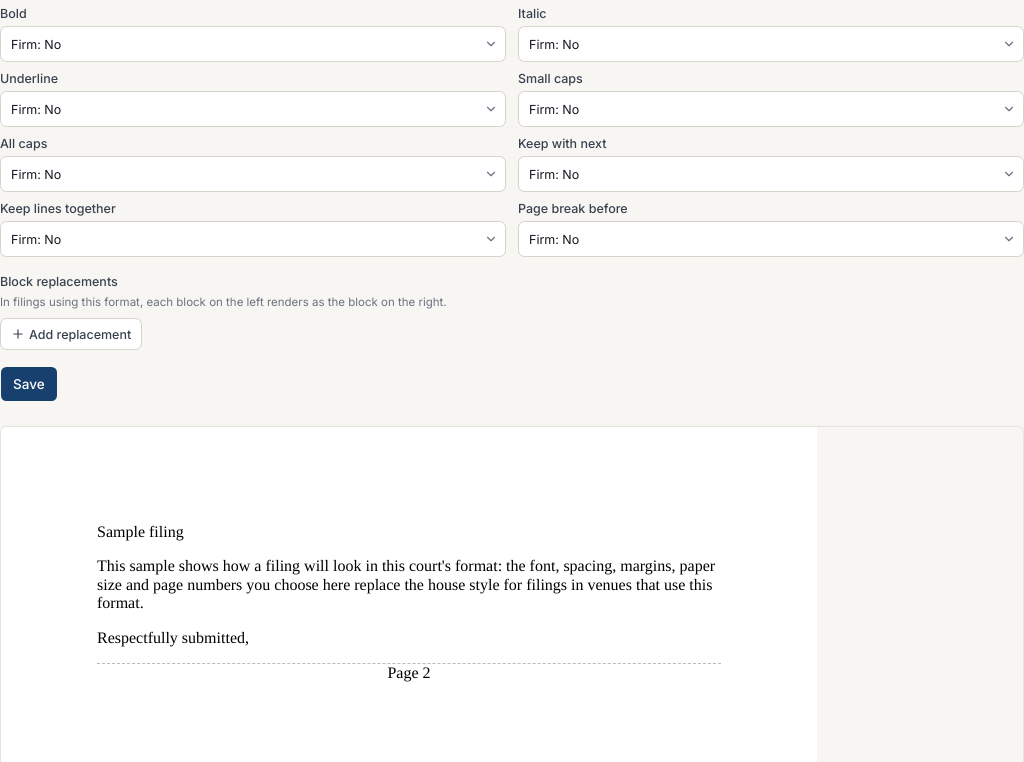
Test: CourtFormatEditor › stale error offers Reload
(page scrolled)
Click the button "Save".
click(29, 384)  # box [0,366,58,402]
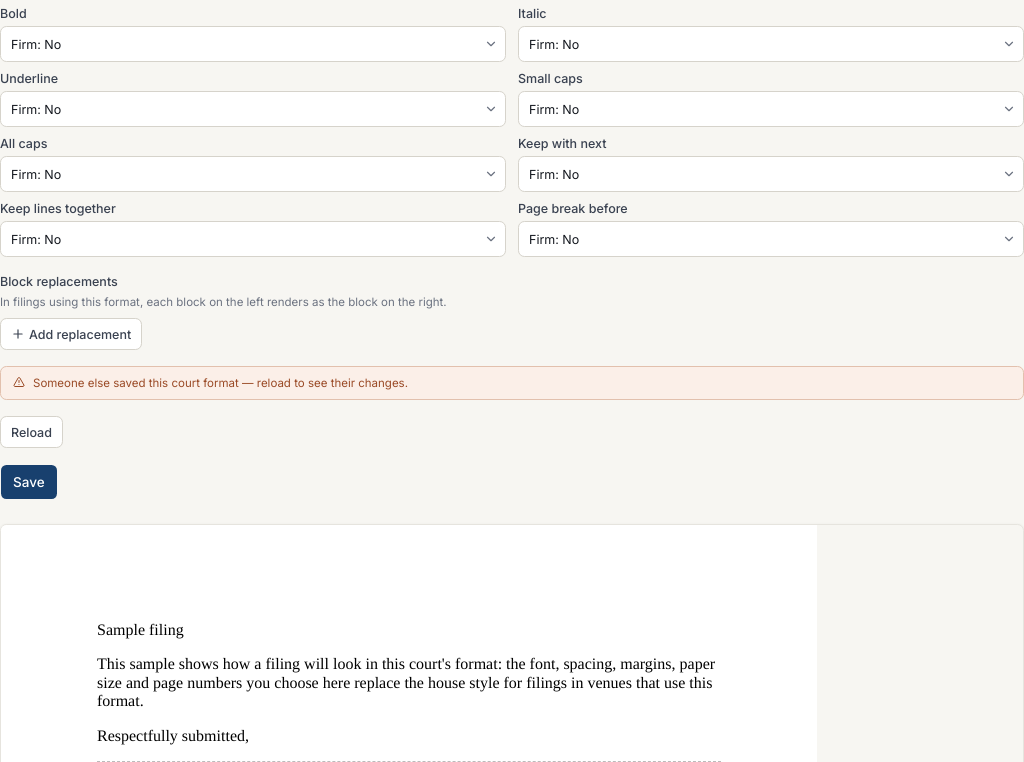
Expected: the text "Someone else saved this court format" is shown, [33,376,408,390]
Expected: the button "Reload" is shown, [0,416,63,448]
